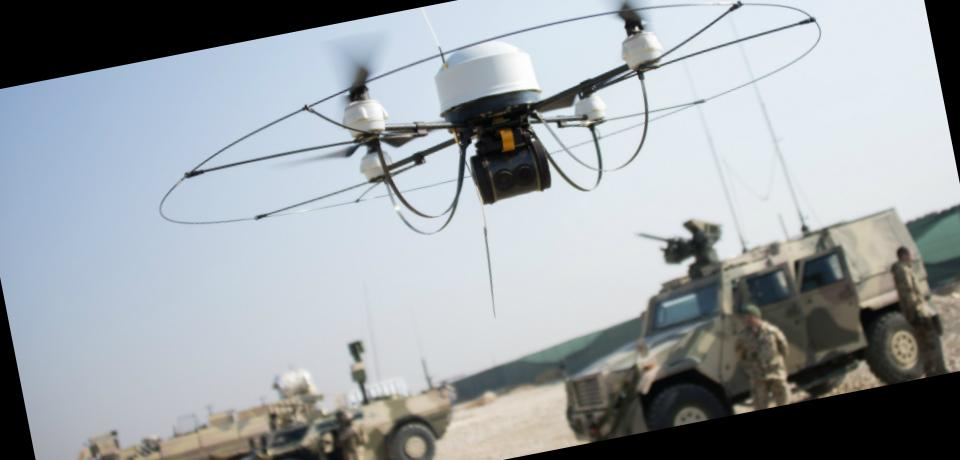drone: (233, 0, 811, 248)
